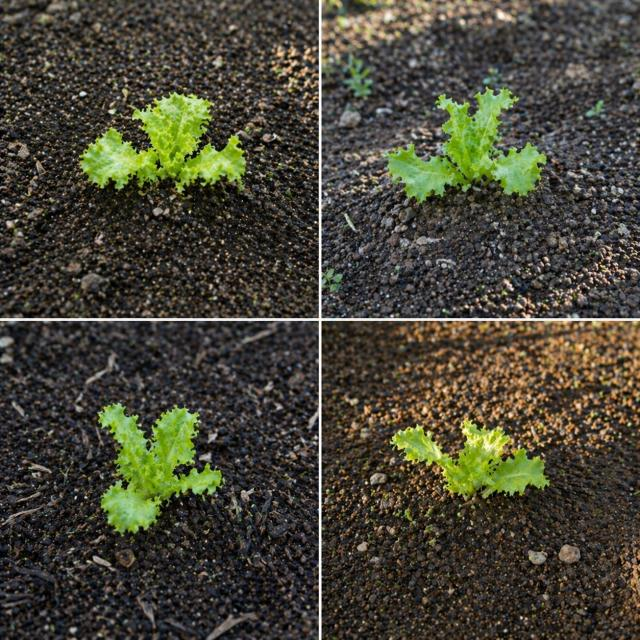verde: (387, 88, 546, 202), (79, 92, 245, 192), (98, 404, 224, 533), (390, 421, 549, 499)
